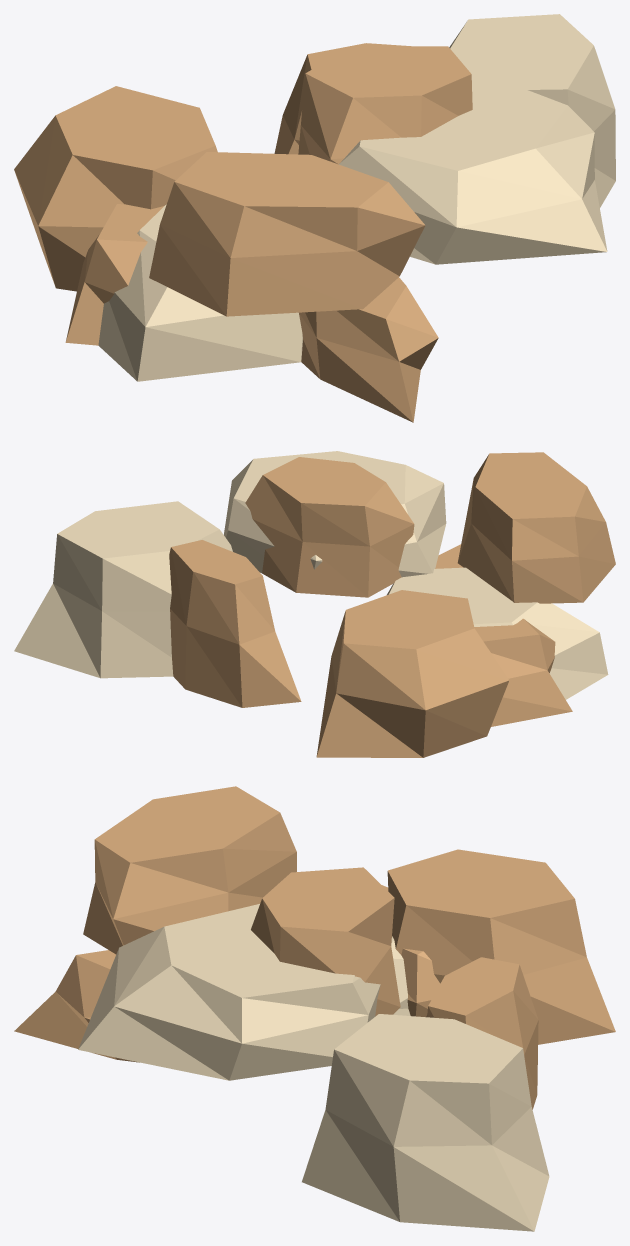
File: boulder-choke.glb
3 views of the same model, one above another, from view 1: azimuth 30°, elevation 25°; view 2: azimuth 150°, elevation 25°; view 3: azimuth 270°, elevation 25° (orthographic). The views are drawn at different scales.
Visible parts, largest first — view 1: boulder-choke; view 2: boulder-choke; view 3: boulder-choke.
Part boxes in pixels (<box>): boulder-choke: <box>14,14,615,422</box>; boulder-choke: <box>14,451,615,757</box>; boulder-choke: <box>14,786,615,1231</box>.
Size of the model in its own units: 4.1 by 1.32 by 3.65.
